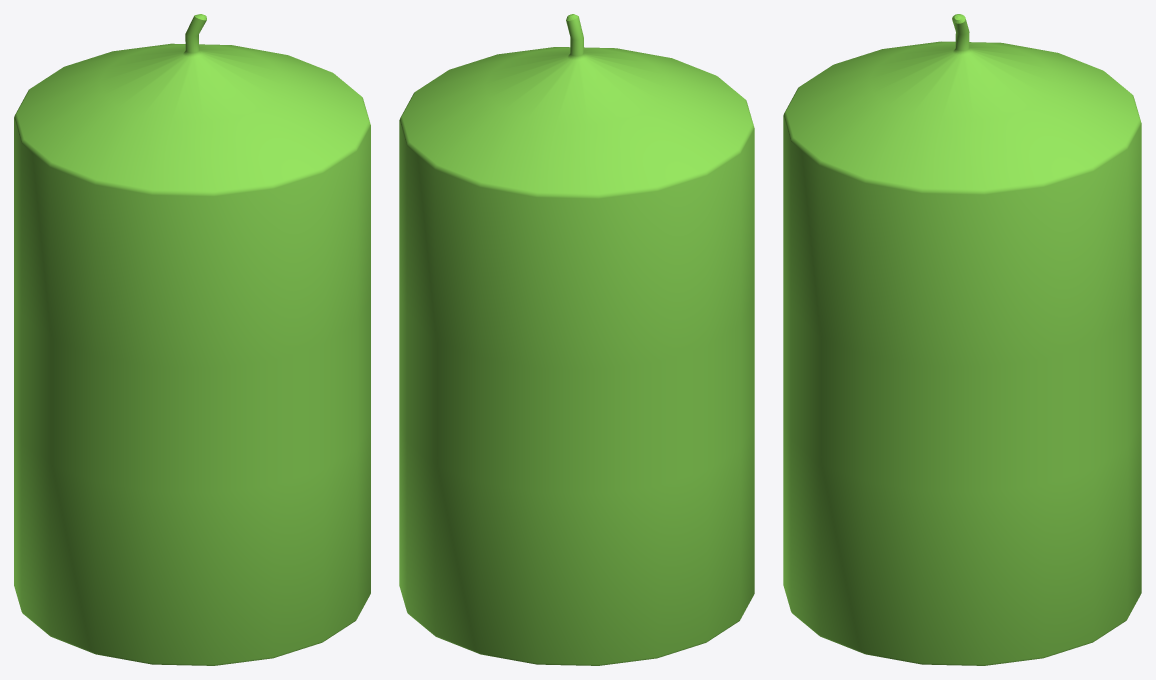
The model's file is Candle.obj.
The picture shows the model from 3 angles, left to right: view 1: azimuth 30°, elevation 25°; view 2: azimuth 150°, elevation 25°; view 3: azimuth 270°, elevation 25°; orthographic projection.
Visible parts, largest first — view 1: Candle; view 2: Candle; view 3: Candle.
Boxes of the visible parts, x1,y1,x2,y2 form: Candle: (14,14,370,665); Candle: (399,14,754,665); Candle: (783,14,1141,665).
Bounding box in the file's own units: 3.83 × 6.87 × 3.85.
